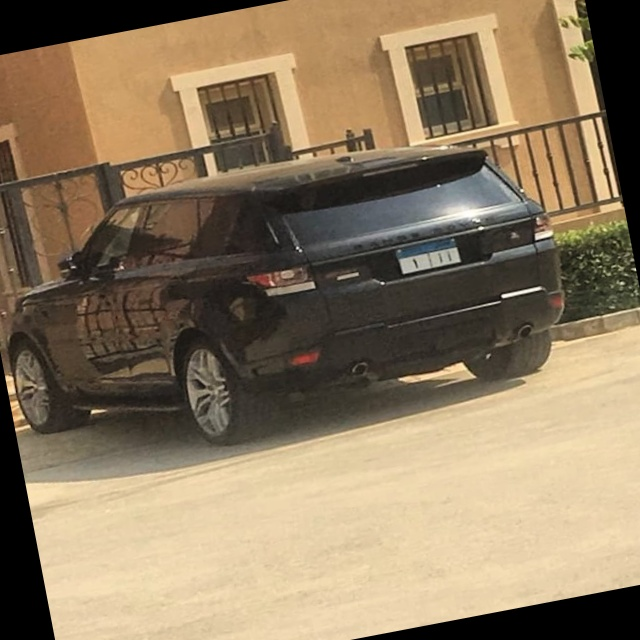License Plate: (393, 236, 464, 278)
